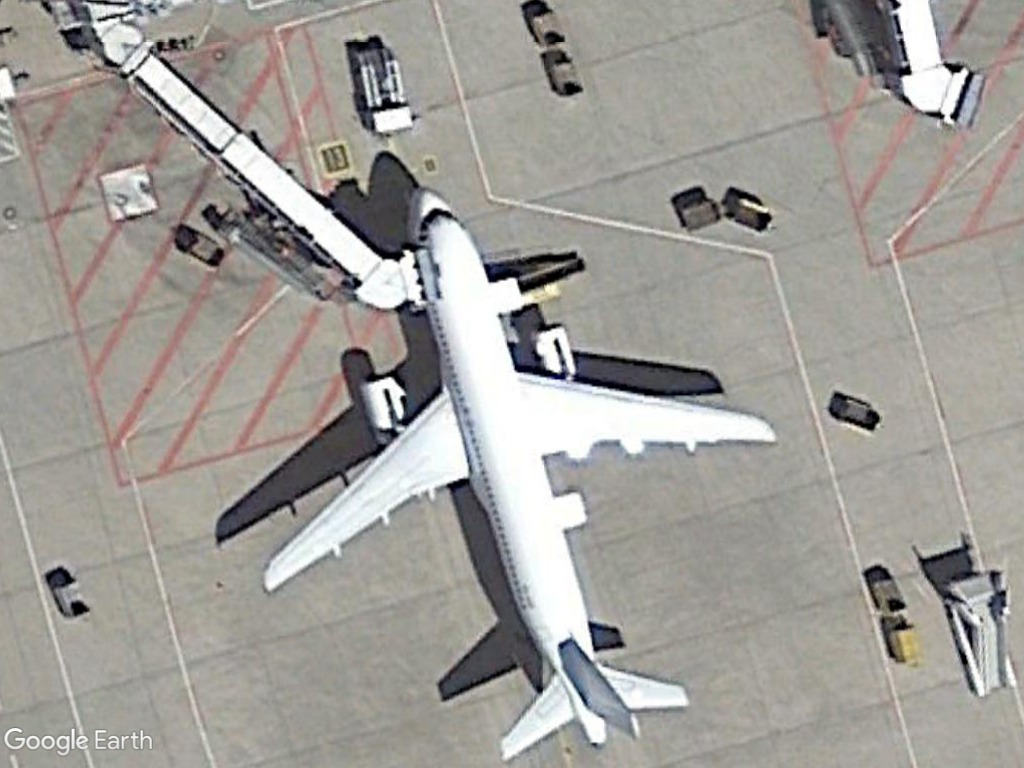airliner: (246, 183, 778, 768)
stairtruck: (939, 566, 1016, 698)
